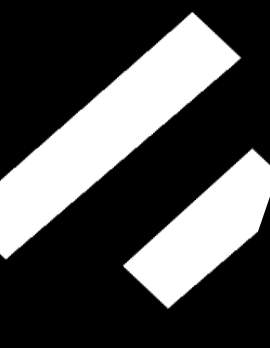parkingspot: (0, 12, 241, 259), (123, 149, 270, 309)
